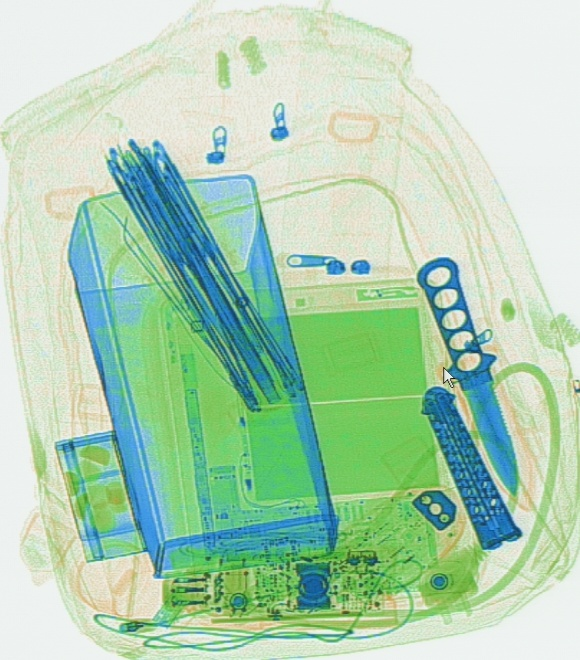knife: (414, 262, 523, 510), (419, 382, 521, 551)
